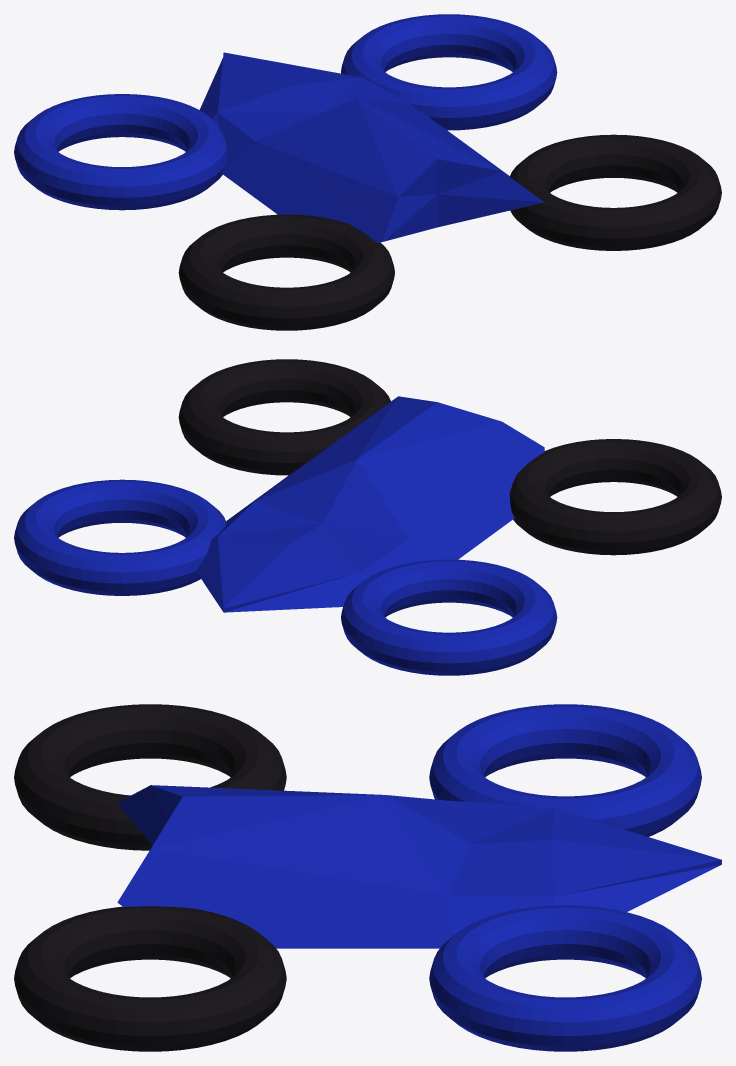
The model's file is DroneV1.obj.
3 renders of one model, top to bottom at view 1: azimuth 30°, elevation 25°; view 2: azimuth 150°, elevation 25°; view 3: azimuth 270°, elevation 25°, orthographic. The views are drawn at different scales.
Visible parts, largest first — view 1: Cube, Cube.002, Cube.001; view 2: Cube, Cube.001, Cube.002; view 3: Cube, Cube.001, Cube.002.
Boxes of the visible parts, x1,y1,x2,y2 form: Cube: [199, 52, 544, 243]; Cube.002: [178, 134, 721, 330]; Cube.001: [14, 14, 557, 210]; Cube: [196, 396, 544, 612]; Cube.001: [14, 479, 557, 675]; Cube.002: [178, 359, 721, 555]; Cube: [117, 785, 721, 948]; Cube.001: [429, 704, 701, 1051]; Cube.002: [14, 704, 286, 1051].
Size of the model in its own units: 5.5 by 0.8726 by 5.2.
